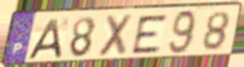8: (201, 10, 233, 52), (68, 15, 97, 59)
9: (167, 8, 198, 57)
A: (25, 16, 63, 61)
E: (131, 13, 170, 56)
X: (95, 13, 136, 59)
